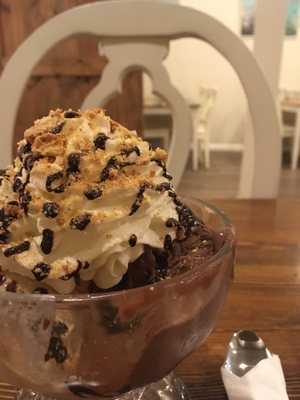sushi: (1, 168, 237, 398)
